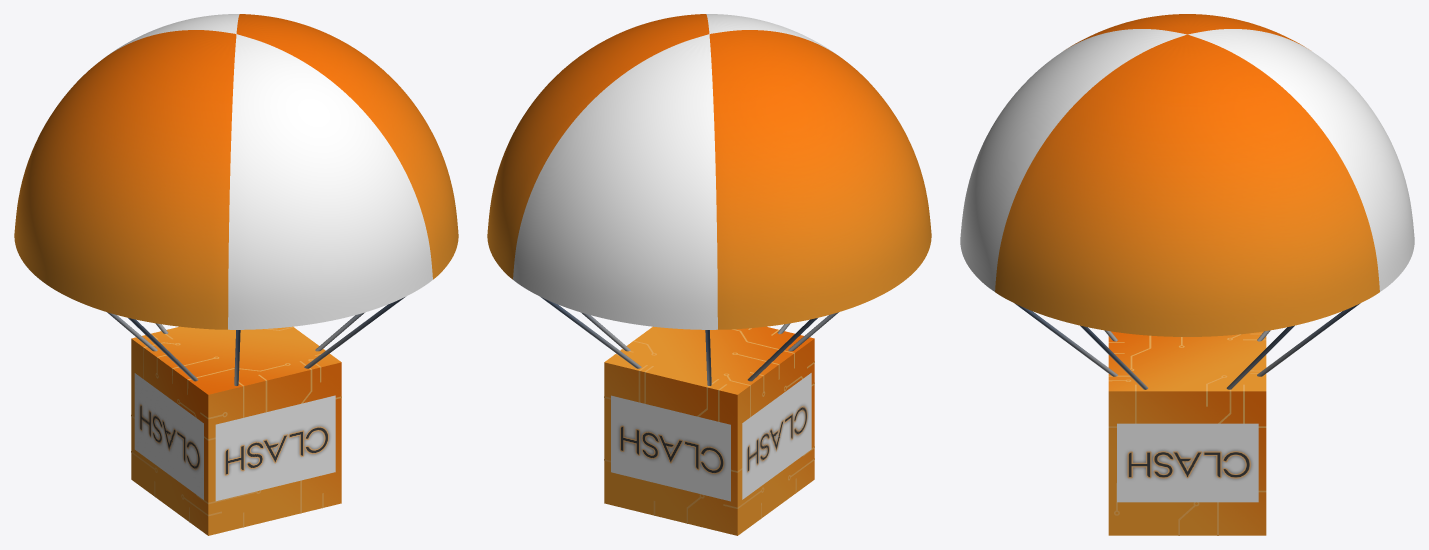
The model's file is Parachute_clash_flipped_FBX.FBX.
3 views of the same model, side by side, from view 1: azimuth 30°, elevation 25°; view 2: azimuth 150°, elevation 25°; view 3: azimuth 270°, elevation 25° (orthographic). The views are drawn at different scales.
Visible parts, largest first — view 1: Sphere003, Box003, Plane011, Plane012, Line026, Line024, Line022; view 2: Sphere003, Box003, Plane013, Plane012, Line026, Line025, Line023; view 3: Sphere003, Box003, Plane014, Line025, Line024, Line026.
Part boxes in pixels (bbox=[...]): Sphere003: bbox=[14, 14, 458, 329]; Box003: bbox=[131, 326, 341, 535]; Plane011: bbox=[215, 395, 335, 501]; Plane012: bbox=[134, 373, 203, 499]; Line026: bbox=[131, 326, 341, 527]; Line024: bbox=[304, 297, 404, 368]; Line022: bbox=[128, 318, 240, 385]; Sphere003: bbox=[487, 14, 931, 329]; Box003: bbox=[604, 326, 814, 535]; Plane013: bbox=[611, 395, 730, 501]; Plane012: bbox=[742, 373, 811, 499]; Line026: bbox=[604, 328, 814, 523]; Line025: bbox=[541, 297, 641, 368]; Line023: bbox=[705, 318, 817, 385]; Sphere003: bbox=[960, 14, 1414, 336]; Box003: bbox=[1108, 331, 1266, 535]; Plane014: bbox=[1117, 423, 1258, 502]; Line025: bbox=[1226, 303, 1360, 389]; Line024: bbox=[1014, 303, 1148, 389]; Line026: bbox=[1108, 333, 1266, 535].
Size of the model in its own units: 72.74 by 82.69 by 72.74.
